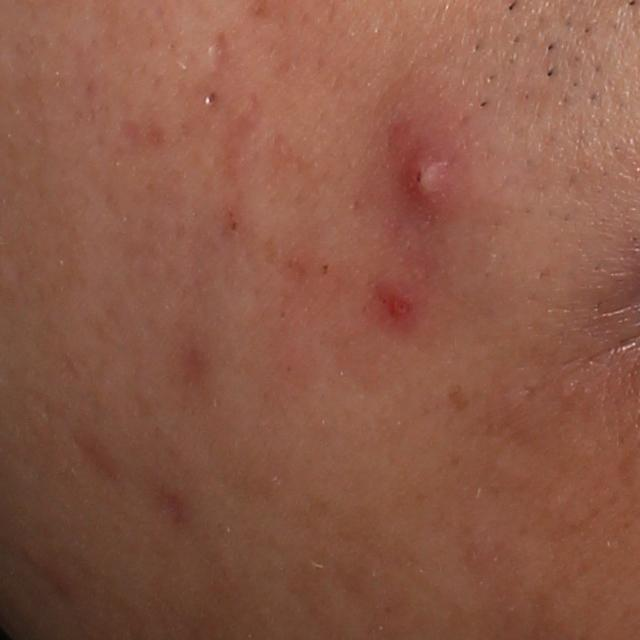atrophic_scar: (215, 97, 269, 180), (68, 427, 125, 492), (207, 28, 237, 82)
comedo: (204, 90, 218, 105)
papule: (373, 278, 413, 325)
pustule: (394, 142, 463, 225)
